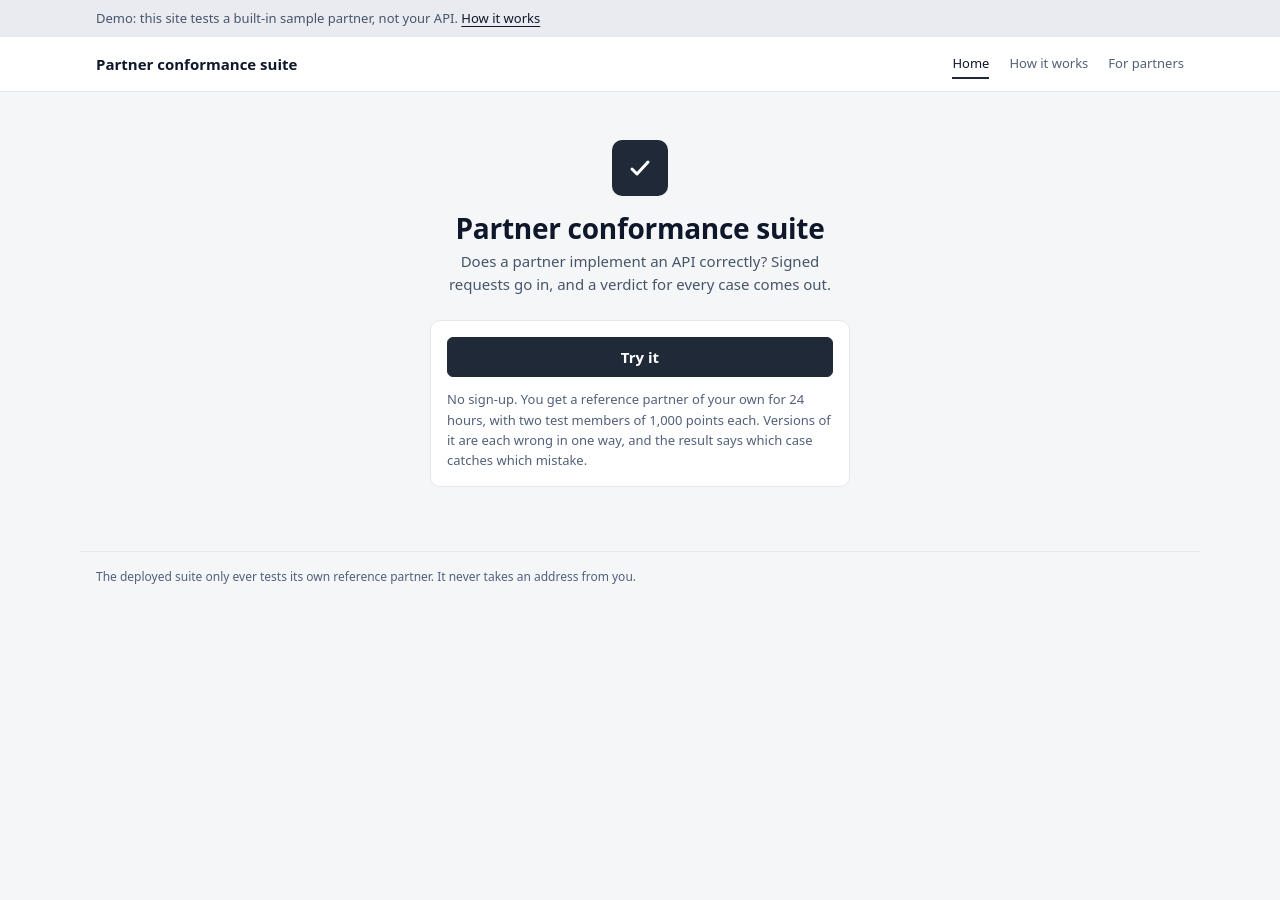
it: the page as a whole › reads the session again after starting it, since starting does not report balances
What coordinates should you click on to do the following:
click the button "Try it"
I would click on:
 (640, 357)
Its box is [447,337,833,377].
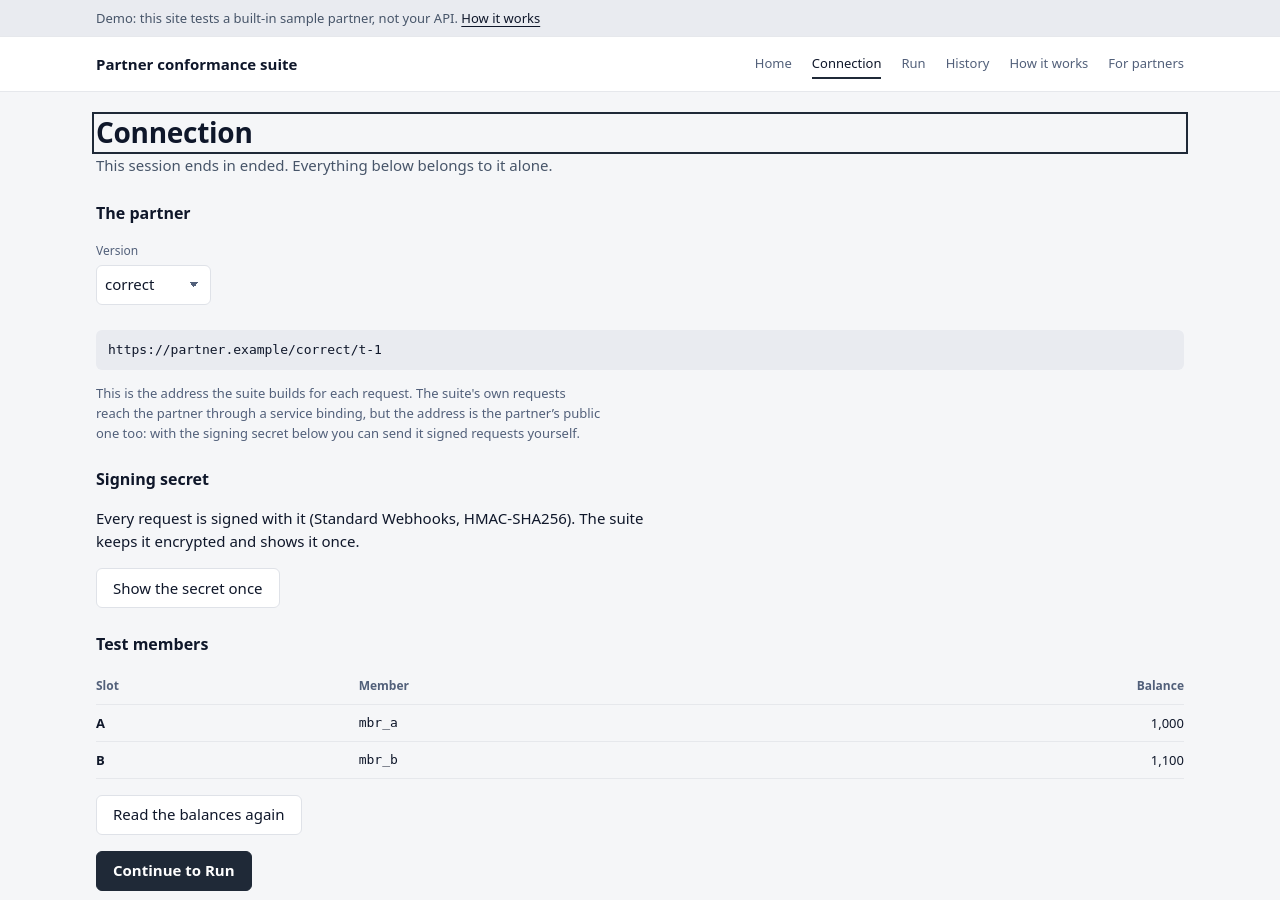
Check: the heading "Connection" is shown, box [96,113,252,151]
